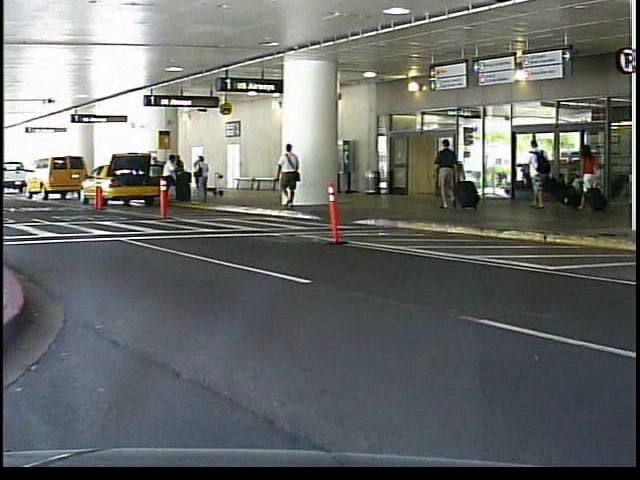person: (522, 137, 559, 217), (576, 133, 608, 220), (433, 135, 467, 211), (275, 140, 307, 212)
